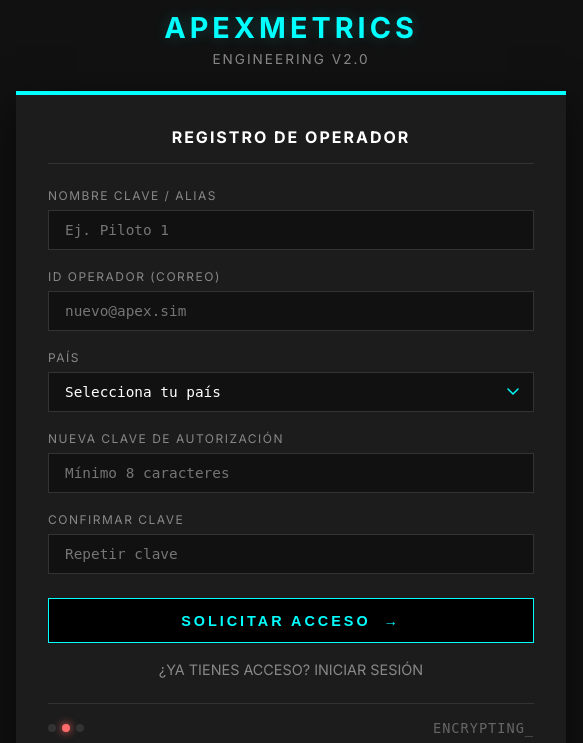
Register — validaciones de formulario › muestra error si las contraseñas no coinciden
The image size is (583, 743).
In the field with placeholder "Ej. Piloto 1": {"x": 291, "y": 230} top-left (48, 210), bottom-right (534, 250), type "PilotoTest"
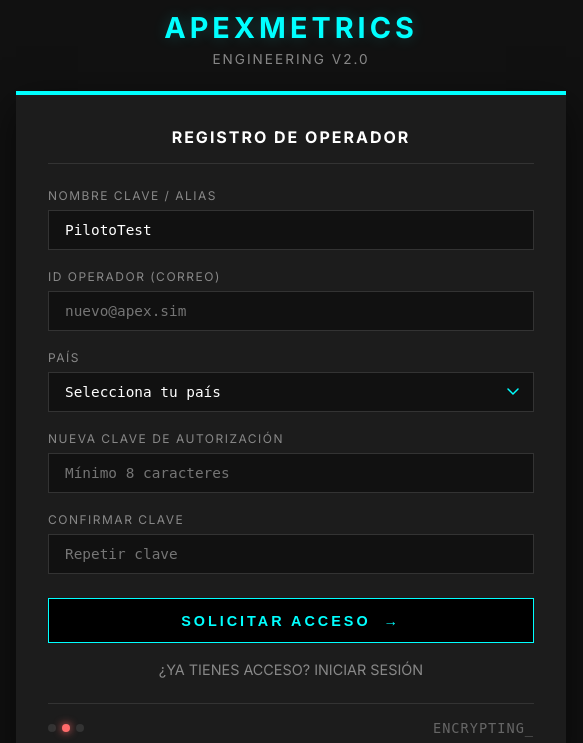
In the field with placeholder "nuevo@apex.sim": {"x": 291, "y": 311} top-left (48, 291), bottom-right (534, 331), type "test@apex.sim"
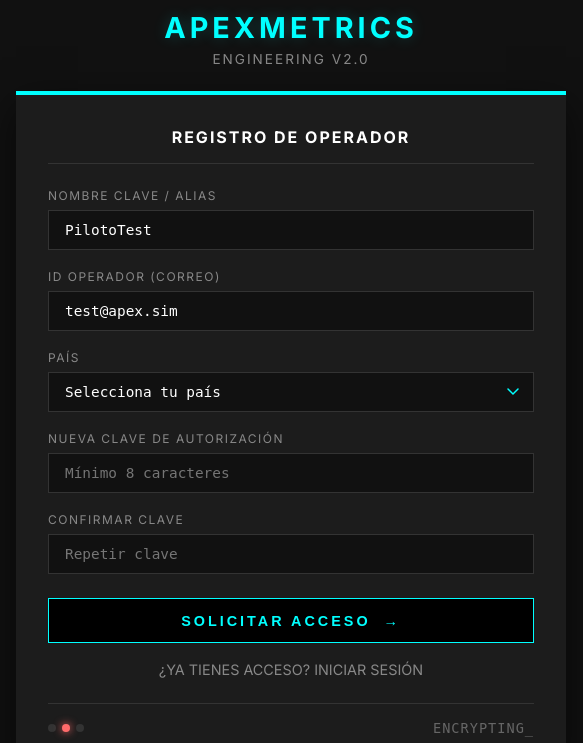
Select "Chile" in the dropdown: {"x": 291, "y": 392} top-left (48, 372), bottom-right (534, 412)
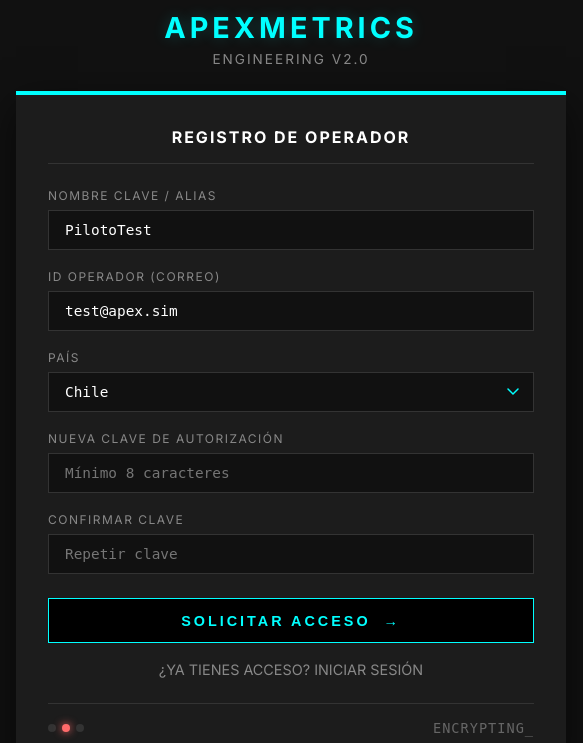
In the password field with placeholder "Mínimo 8 caracteres": {"x": 291, "y": 473} top-left (48, 453), bottom-right (534, 493), type "clave_segura_larga_16_chars"
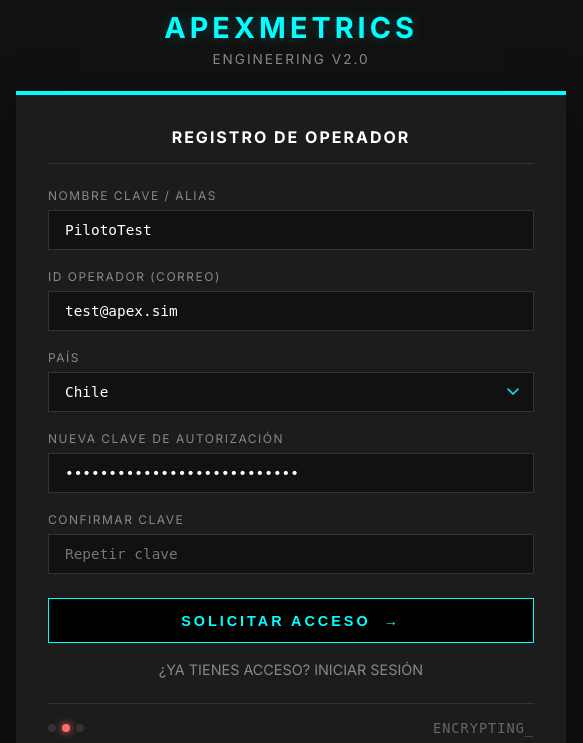
In the password field with placeholder "Repetir clave": {"x": 291, "y": 554} top-left (48, 534), bottom-right (534, 574), type "clave_diferente_tambien_larga"
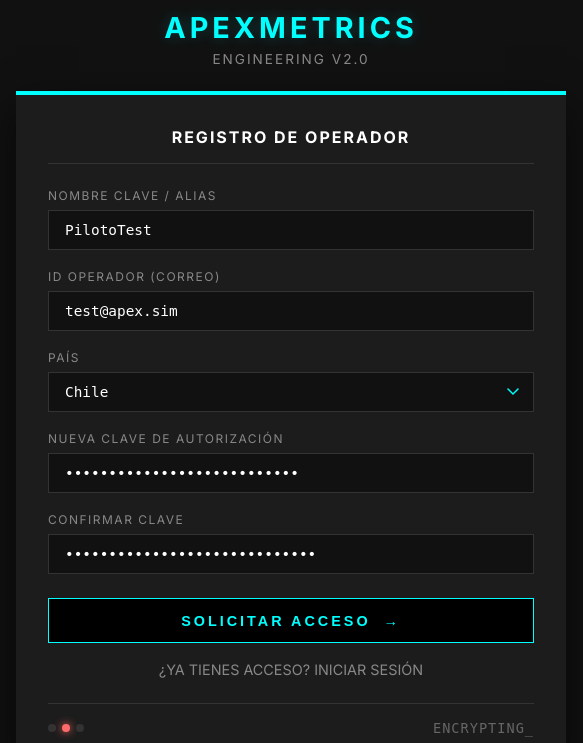
Click the button "SOLICITAR ACCESO →": {"x": 291, "y": 621} top-left (48, 598), bottom-right (534, 643)
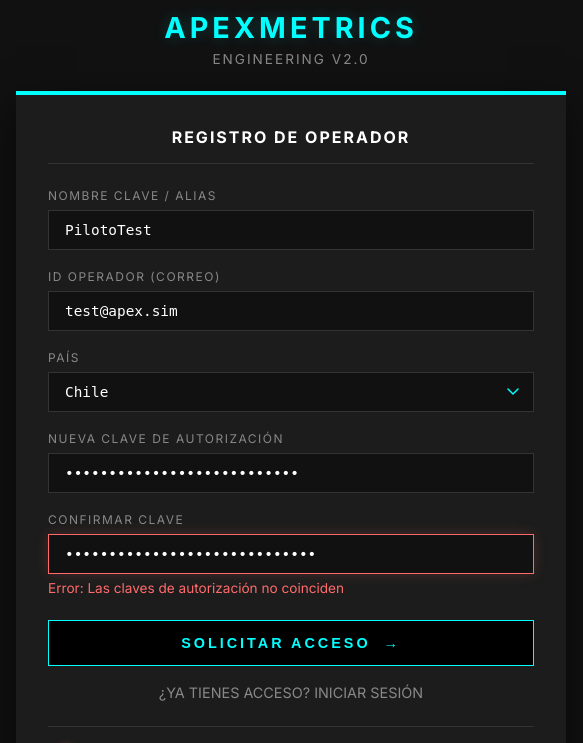
Expected: the text "Error: Las claves de autorización no coinciden" is shown, top-left (48, 580), bottom-right (344, 596)
